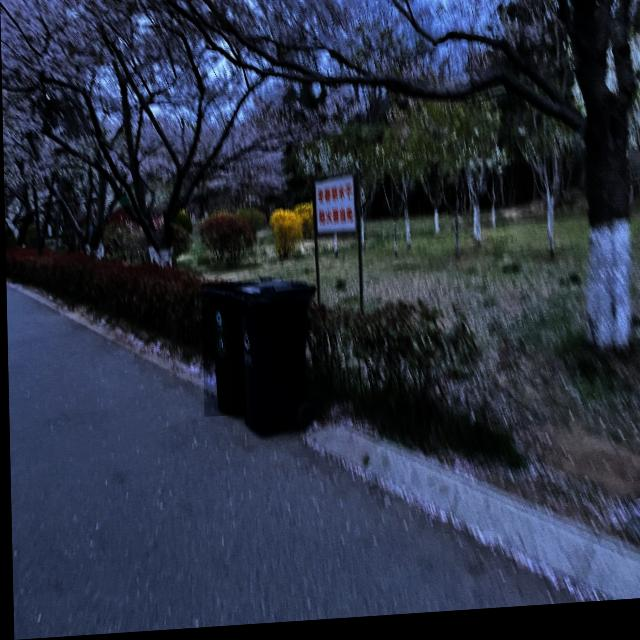garbage_bin: (228, 281, 314, 438), (201, 285, 243, 420)
